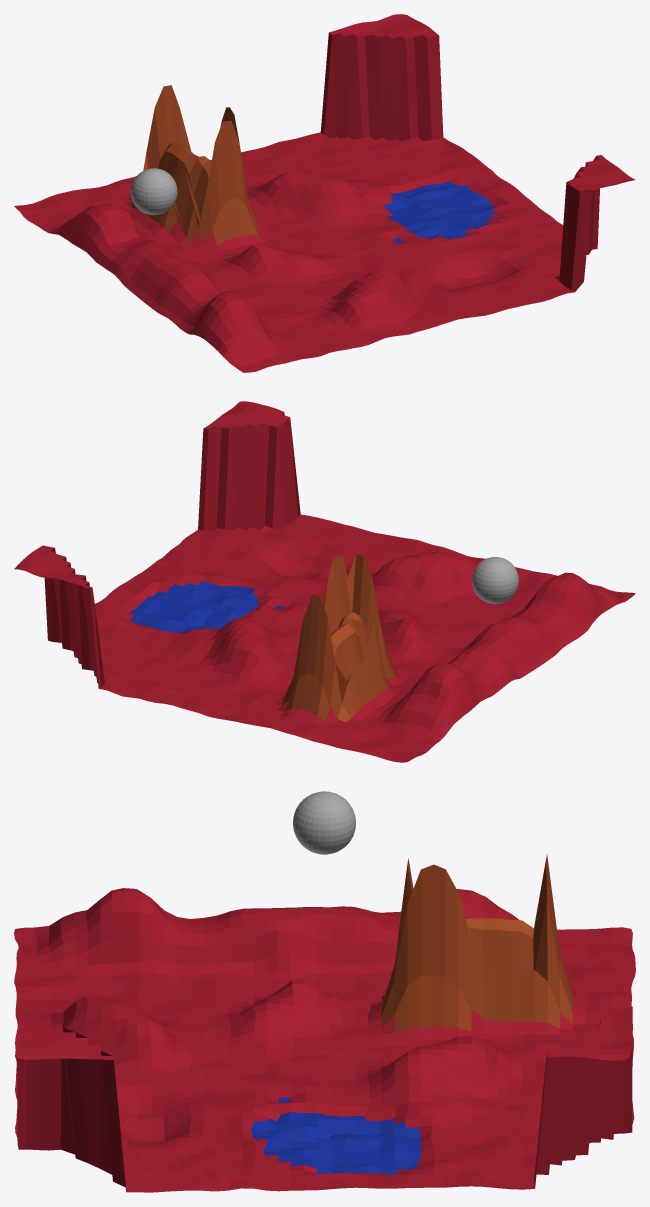
File: expoooooort.obj
3 views of the same model, one above another, from view 1: azimuth 30°, elevation 25°; view 2: azimuth 150°, elevation 25°; view 3: azimuth 270°, elevation 25° (orthographic). The views are drawn at different scales.
Visible parts, largest first — view 1: Grid, Sphere; view 2: Grid, Sphere; view 3: Grid, Sphere.
Part boxes in pixels (box(x1,y1,x2,y2)): Grid: box(14, 14, 635, 372); Sphere: box(130, 168, 177, 215); Grid: box(14, 401, 635, 762); Sphere: box(472, 557, 518, 603); Grid: box(14, 854, 635, 1192); Sphere: box(293, 791, 355, 854).
Bounding box in the file's own units: 58.18 × 18.51 × 58.25.
